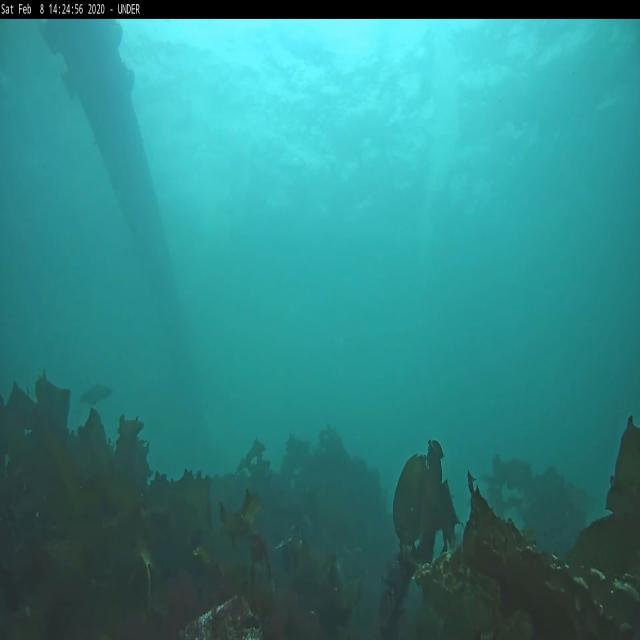fish: (79, 383, 113, 408)
